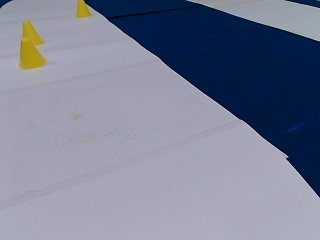cone: (17, 37, 45, 68), (21, 21, 42, 45), (76, 0, 89, 16)
